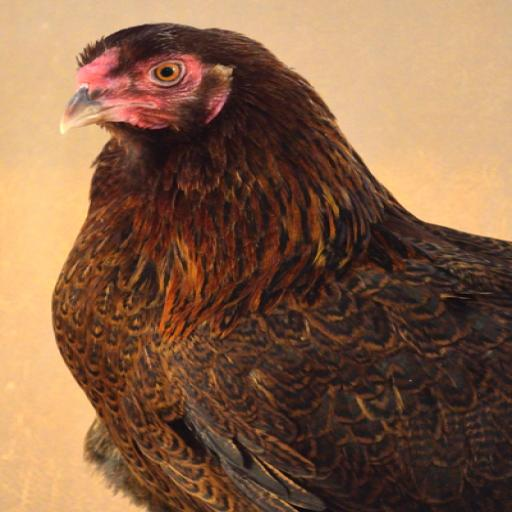disease: (68, 62, 71, 68)
